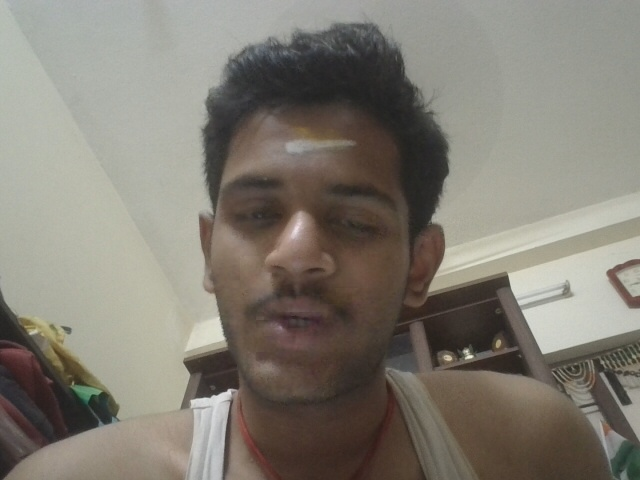real: (169, 107, 439, 377)
